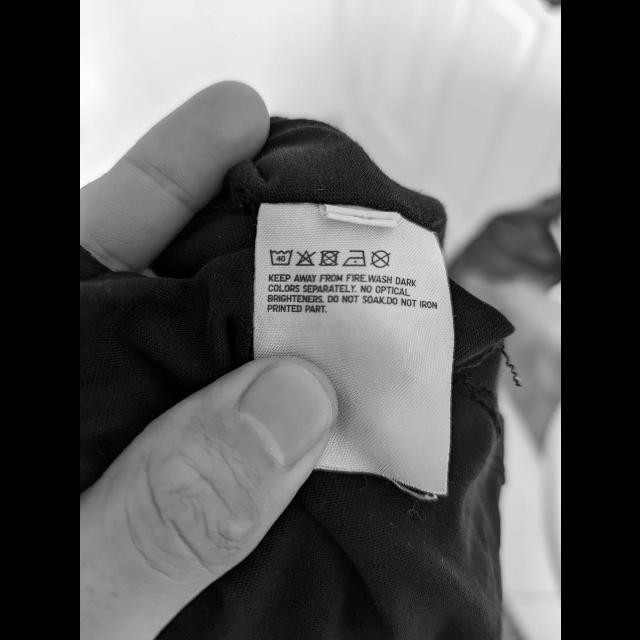40C: (268, 247, 292, 267)
DN_bleach: (294, 248, 316, 268)
DN_dry_clean: (368, 249, 392, 269)
DN_tumble_dry: (318, 249, 340, 267)
iron_low: (342, 248, 366, 268)
